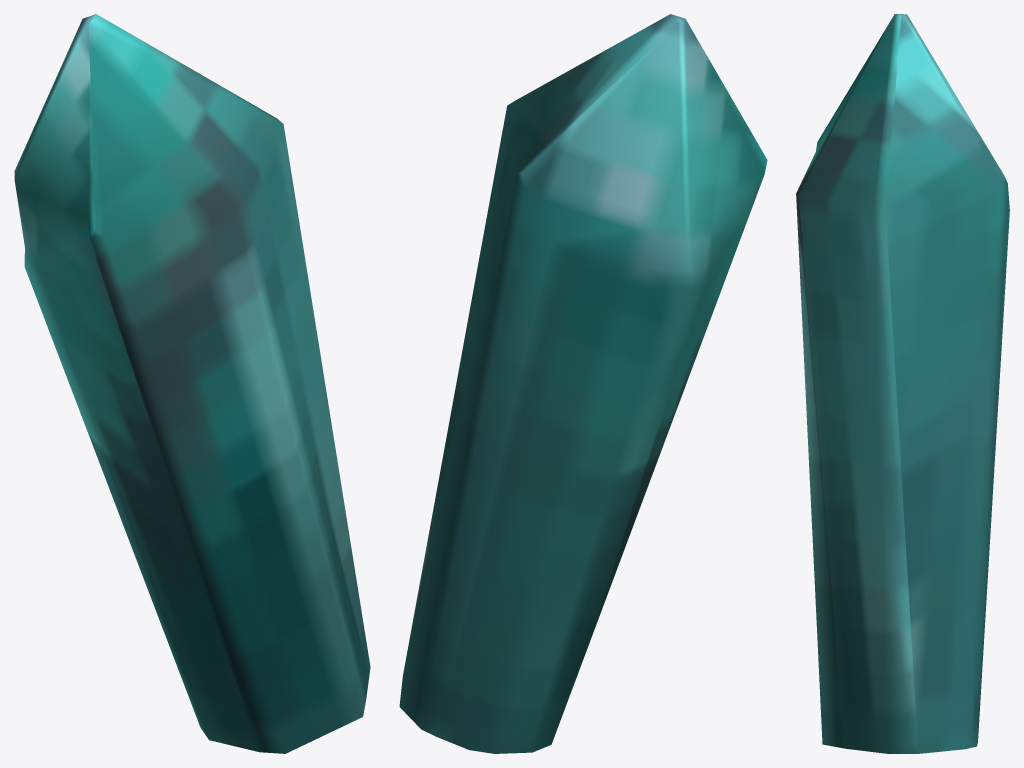
File: Crystall_3.fbx
3 views of the same model, side by side, from view 1: azimuth 30°, elevation 25°; view 2: azimuth 150°, elevation 25°; view 3: azimuth 270°, elevation 25° (orthographic). The views are drawn at different scales.
Parts seen in each view (by area): view 1: tripo_78f1625e_427e_4ab7_ba19_2ef5df76ef18.005; view 2: tripo_78f1625e_427e_4ab7_ba19_2ef5df76ef18.005; view 3: tripo_78f1625e_427e_4ab7_ba19_2ef5df76ef18.005.
Part boxes in pixels (x1,y1,x2,y2): tripo_78f1625e_427e_4ab7_ba19_2ef5df76ef18.005: (14,14,370,753); tripo_78f1625e_427e_4ab7_ba19_2ef5df76ef18.005: (399,14,767,753); tripo_78f1625e_427e_4ab7_ba19_2ef5df76ef18.005: (796,14,1009,753).
Bounding box in the file's own units: 13.55 × 30.83 × 9.01.
